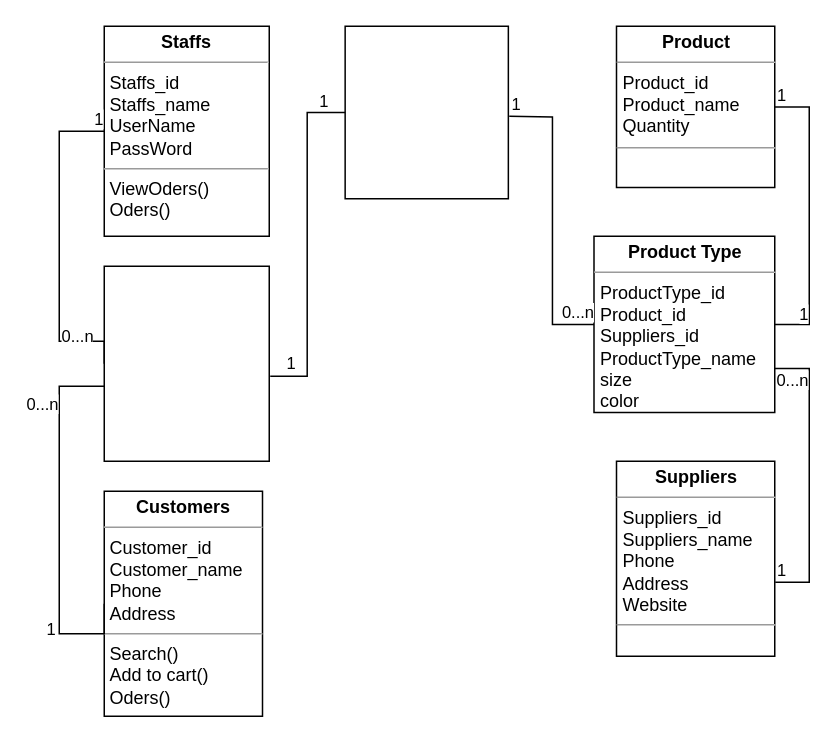
The diagram is 837 pixels wide and 743 high, and some of its shapes have lost their labels. The box of each missing label's shape, as (x1, y1, x2, y2) in pixels:
Oder Details Oders_id ProductType_id Price Quantity: (344, 25, 508, 199)
Oders Oders_id Staffs_id Customers_id Oder_date Status: (103, 265, 269, 461)
